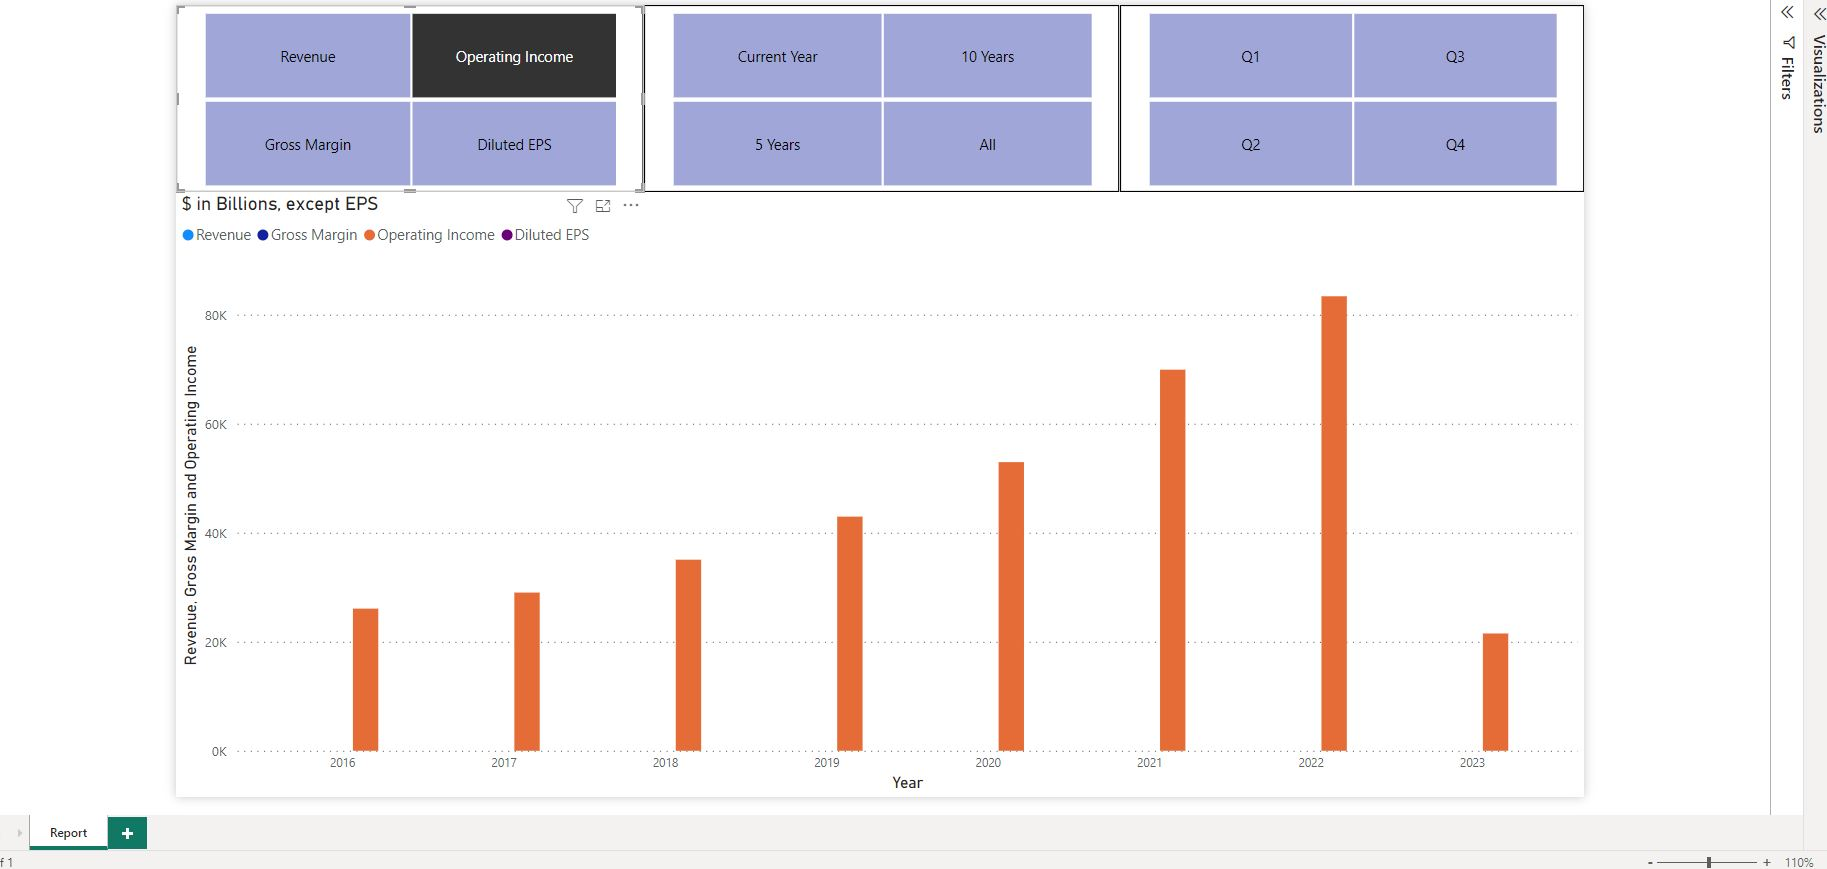

This screenshot's page, from the dashboard's own definition file:
{"tool":"powerbi","page":{"name":"Report","canvas":[1280,720],"ordinal":0},"visuals":[{"type":"lineClusteredColumnComboChart","title":"$ in Billions, except EPS","fields":{"Category":["PL Data.Year"],"Y":["SlicerData.Revenue","SlicerData.Gross Margin","SlicerData.Operating Income"],"Y2":["SlicerData.Diluted EPS"]},"box":[0,170,1279.1,550],"z":0},{"type":"slicer","fields":{"Values":["SlicerData.Label"]},"box":[0,0,425.5,170],"z":1000},{"type":"slicer","fields":{"Values":["SlicerYears.Label"]},"box":[425.5,0,431.8,170],"z":2000},{"type":"slicer","fields":{"Values":["PL Data.Qtr"]},"box":[858.2,0,421.8,170],"z":2001}]}

Visuals, with their boxes on the page's 1280x720 design canvas (x1, y1, x2, y2). These are canvas units, not pixel positions in the 1827x869 screenshot, which may show the page scaled, cropped or inside an application window:
"$ in Billions, except EPS" lineClusteredColumnComboChart: box(0, 170, 1279, 720)
slicer - SlicerData.Label: box(0, 0, 426, 170)
slicer - SlicerYears.Label: box(426, 0, 857, 170)
slicer - PL Data.Qtr: box(858, 0, 1280, 170)
